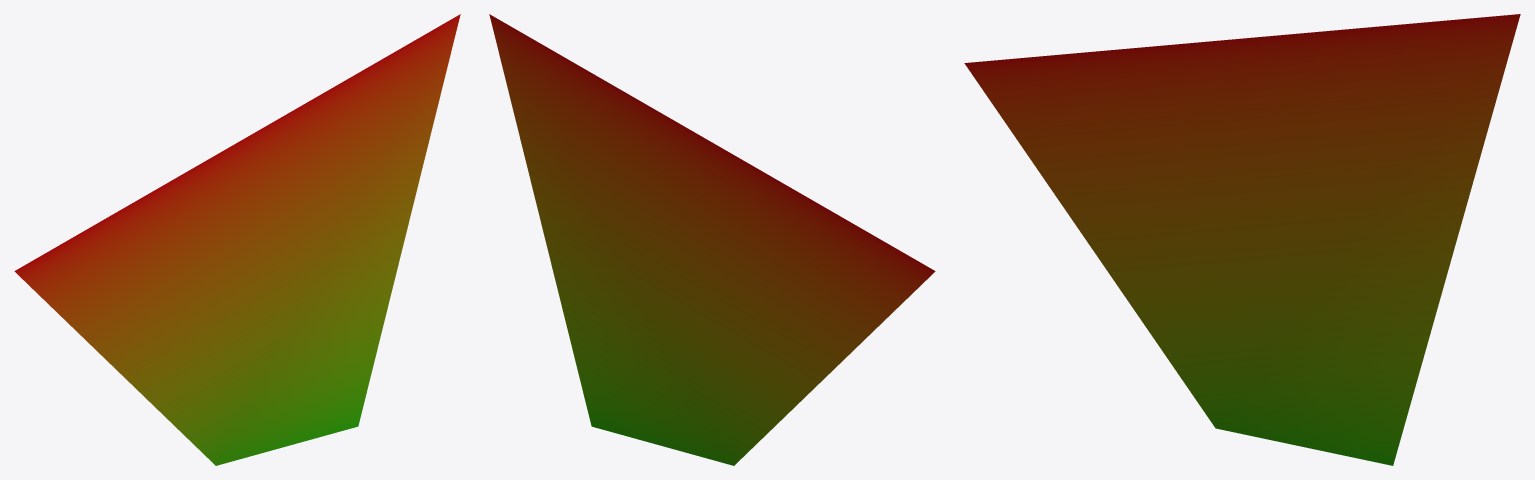
Rendered from Giant Reed_LOD3_Var4_sjllX.fbx.
3 views of the same model, side by side, from view 1: azimuth 30°, elevation 25°; view 2: azimuth 150°, elevation 25°; view 3: azimuth 330°, elevation 25° (orthographic). The views are drawn at different scales.
Parts seen in each view (by area): view 1: _2d68_Var4_LOD3; view 2: _2d68_Var4_LOD3; view 3: _2d68_Var4_LOD3.
Boxes of the visible parts, x1,y1,x2,y2 form: _2d68_Var4_LOD3: [14, 14, 460, 465]; _2d68_Var4_LOD3: [489, 14, 935, 465]; _2d68_Var4_LOD3: [964, 14, 1520, 465].
Bounding box in the file's own units: 150 × 126 × 1.06e-05.
